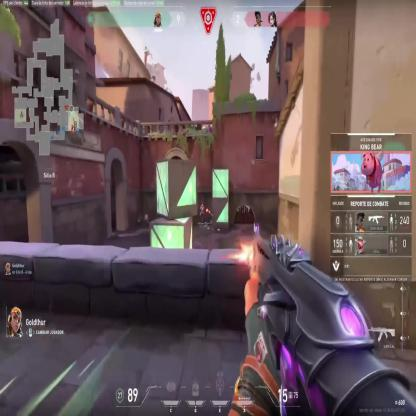enemy: (200, 201, 204, 224)
enemy_head: (201, 202, 203, 206)
